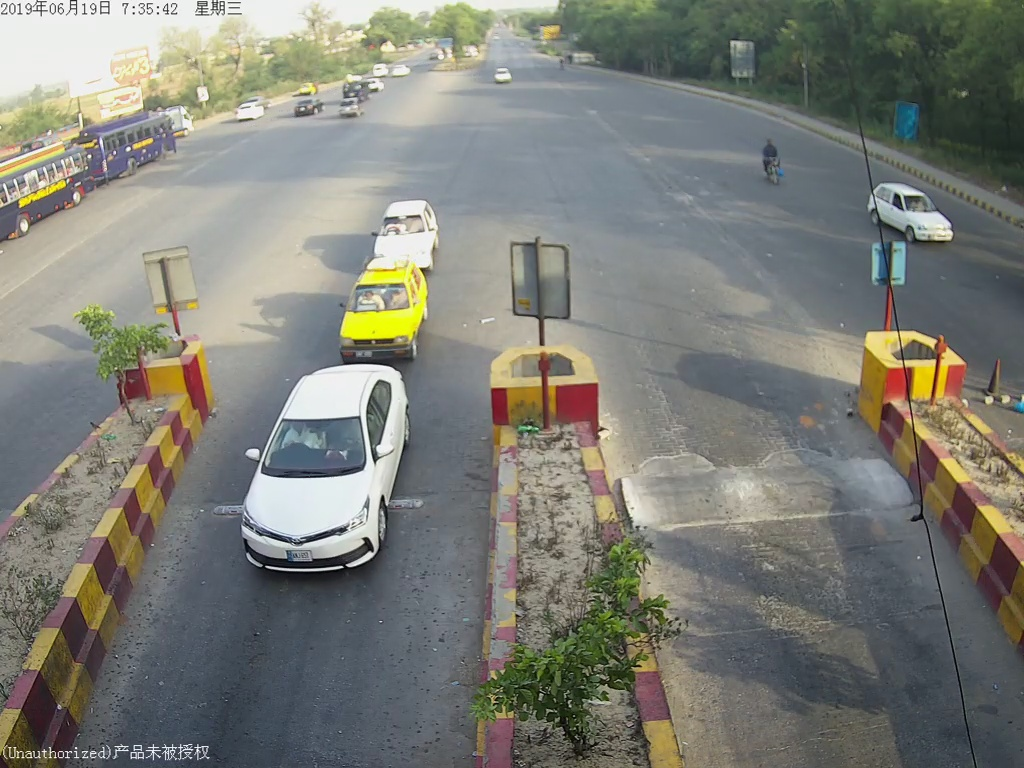Cat-1: (231, 369, 428, 588), (331, 264, 428, 361), (370, 205, 438, 259)
